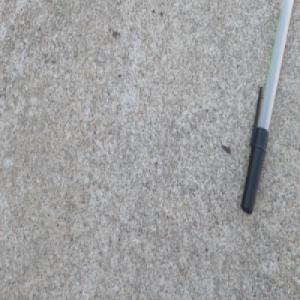Pen: (240, 1, 294, 216)
